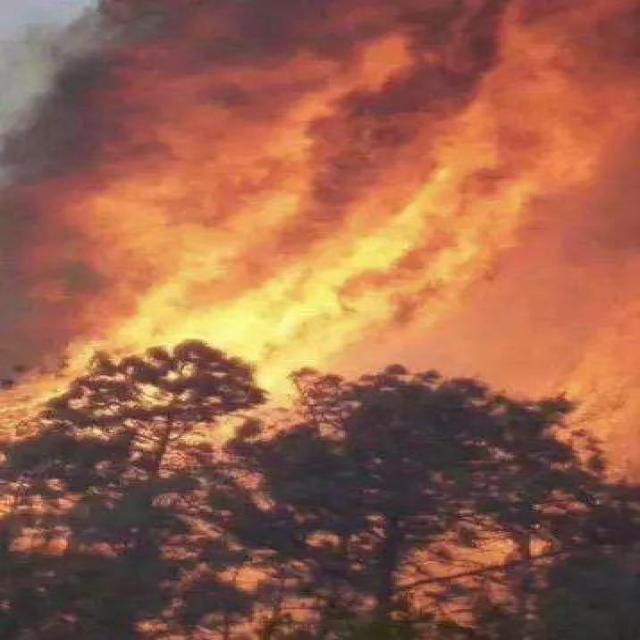fire: (29, 35, 632, 432)
